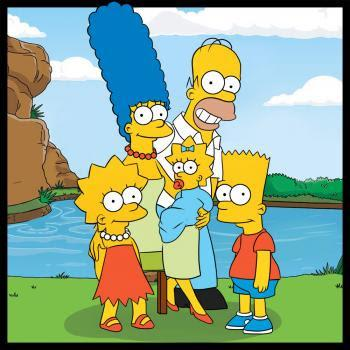Bart: (209, 143, 295, 332)
Homer: (169, 27, 275, 151)
Lisa: (64, 159, 166, 331)
Maggie: (159, 135, 209, 232)
Marge: (81, 8, 177, 179)
